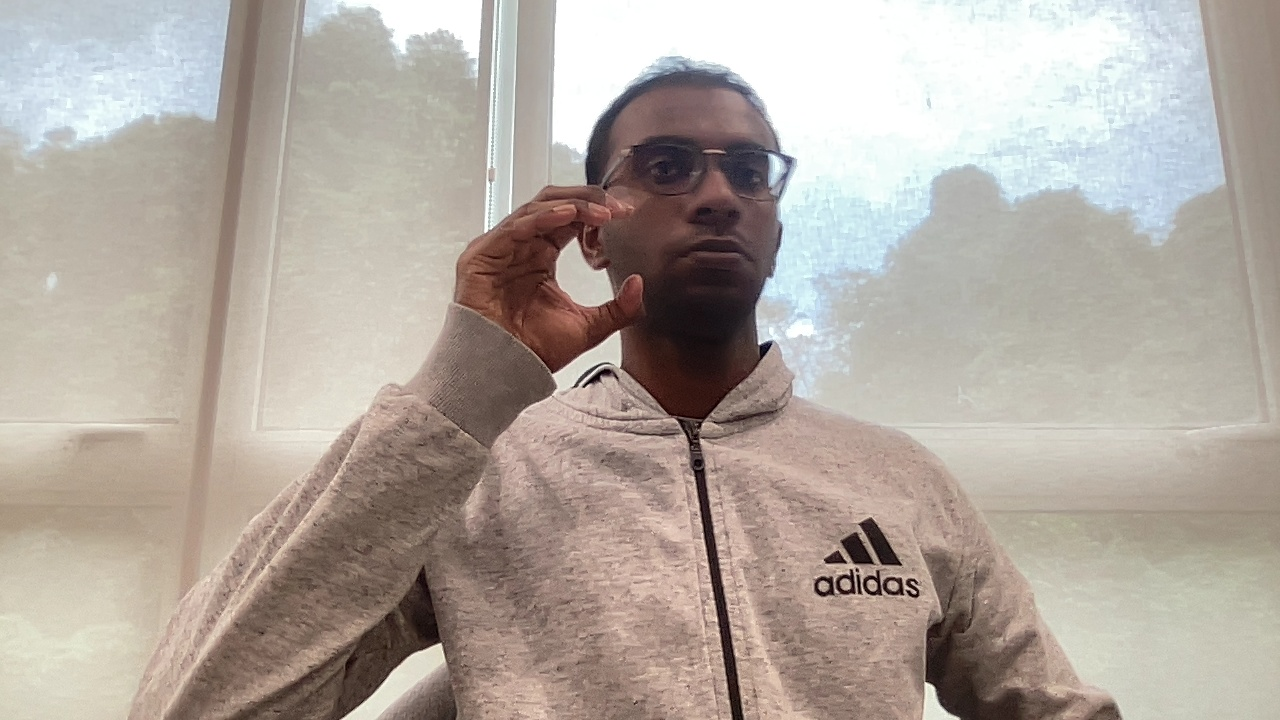drink: (446, 176, 650, 368)
